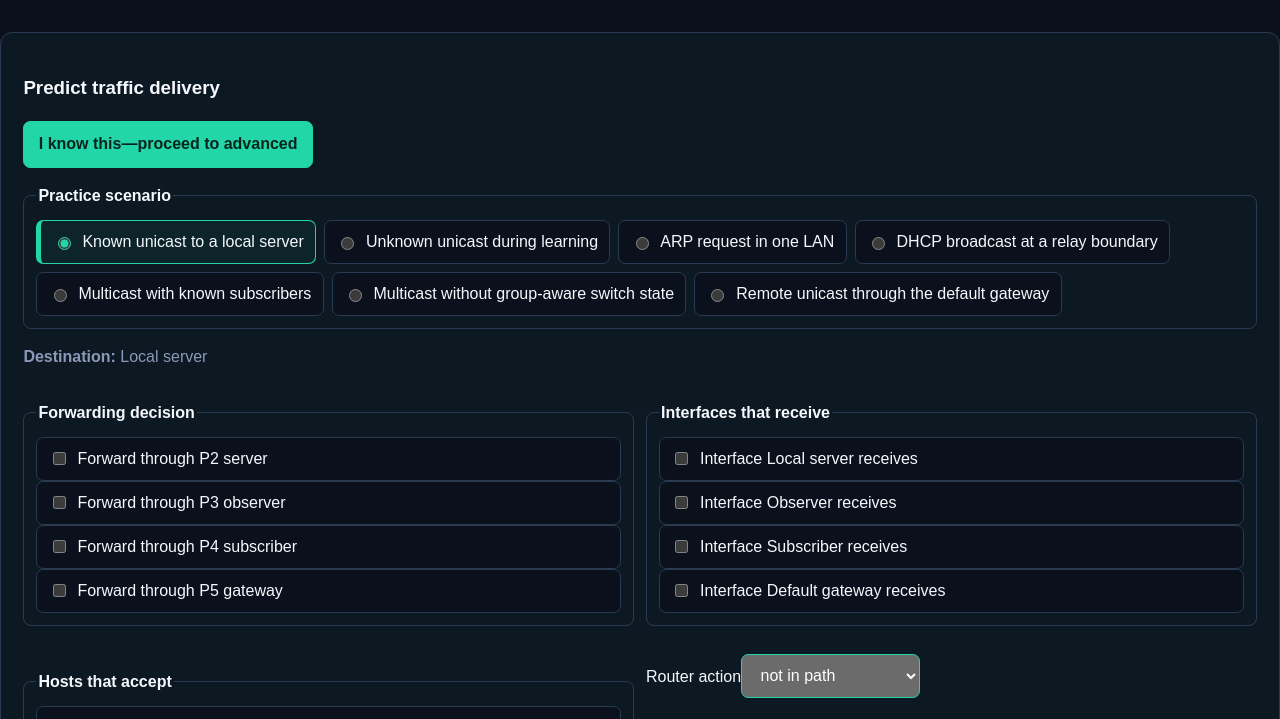
Test: DeliveryScopeLab › resets state and focuses the first intermediate scenario through the advanced shortcut
The width and height of the screenshot is (1280, 719).
Click the button "I know this—proceed to advanced".
click(168, 144)  # box [23,121,313,168]
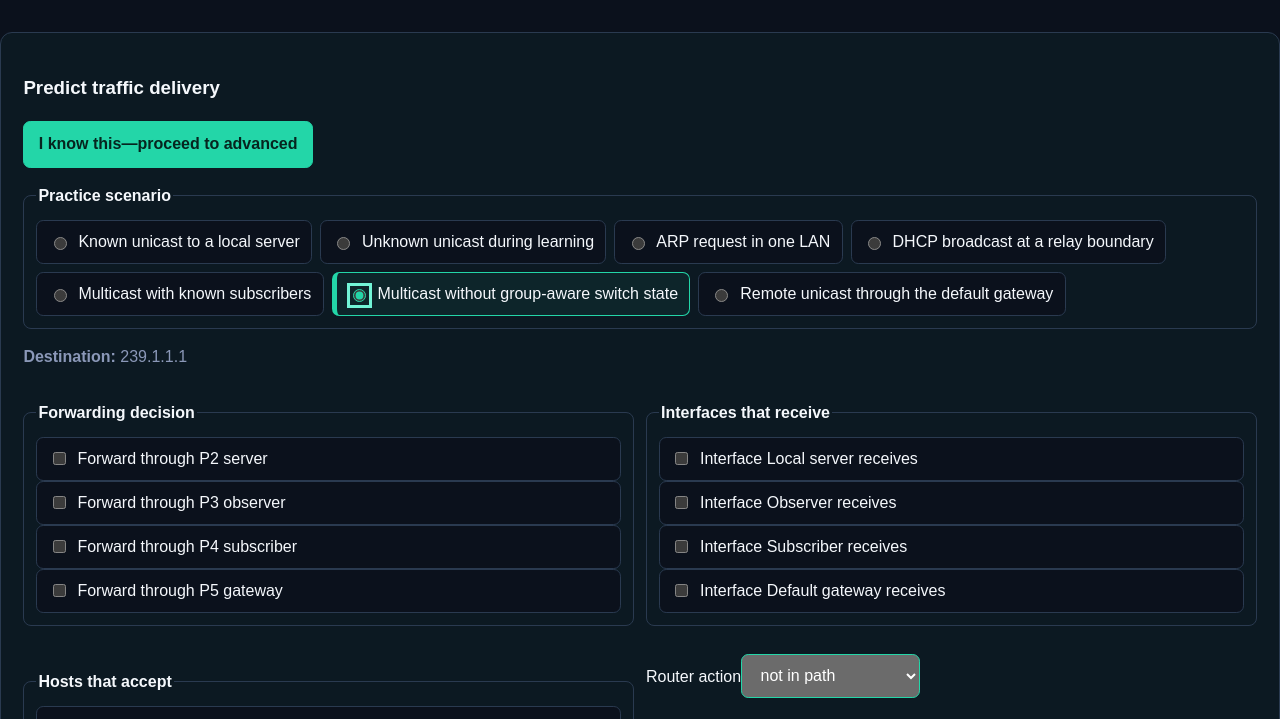
Result: the radio button labelled "Multicast without group-aware switch state" is checked at [353,289,366,302]
